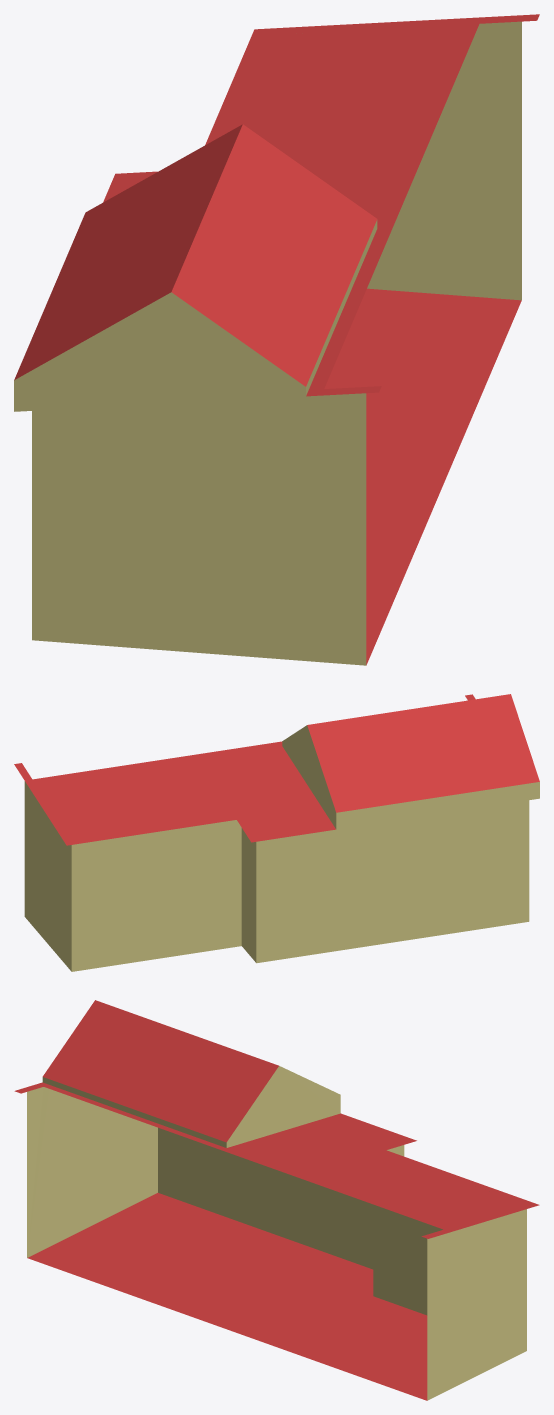
3 renders of one model, top to bottom at view 1: azimuth 30°, elevation 25°; view 2: azimuth 150°, elevation 25°; view 3: azimuth 270°, elevation 25°, orthographic. The views are drawn at different scales.
Size of the model in its own units: 27.85 by 28.23 by 12.9.
